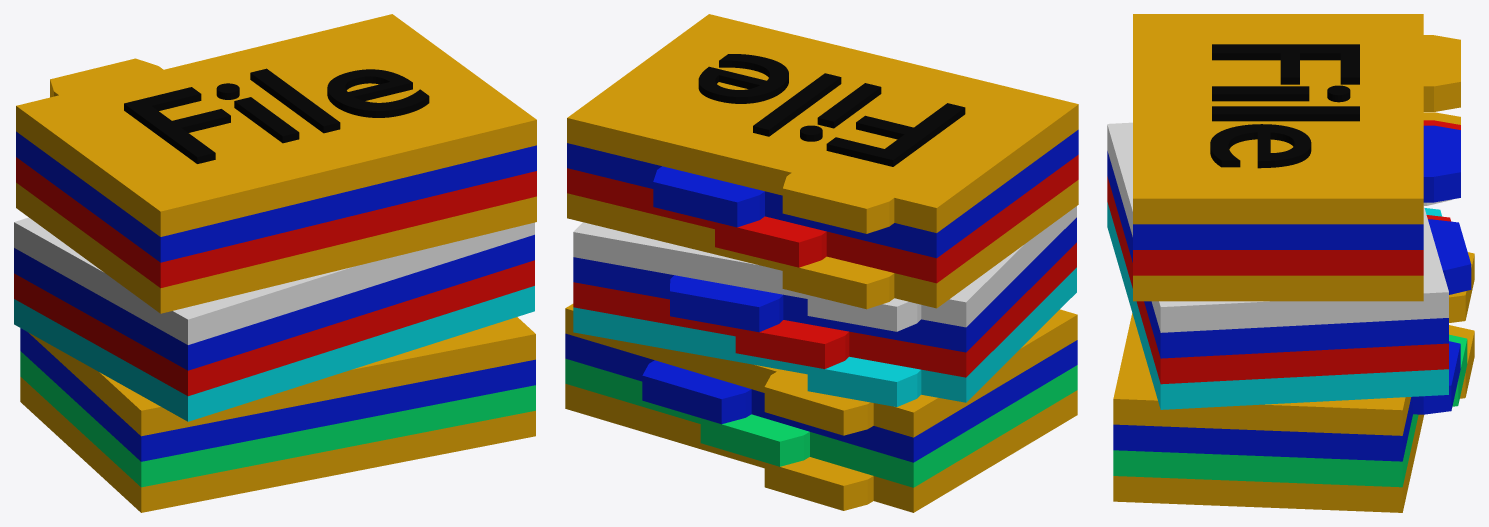
The model's file is filestack230425.fbx.
3 renders of one model, left to right at view 1: azimuth 30°, elevation 25°; view 2: azimuth 150°, elevation 25°; view 3: azimuth 270°, elevation 25°, orthographic. The views are drawn at different scales.
Visible parts, largest first — view 1: Plane.005; view 2: Plane.005; view 3: Plane.005.
Part boxes in pixels (bbox=[...]): Plane.005: bbox=[14, 14, 536, 512]; Plane.005: bbox=[565, 14, 1078, 512]; Plane.005: bbox=[1107, 14, 1474, 512].
Size of the model in its own units: 53.2 by 39.4 by 41.62.
